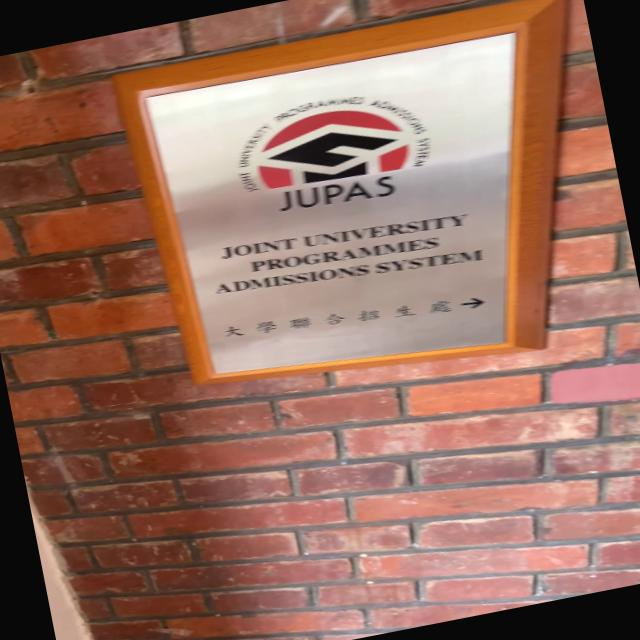jupasOffice: (76, 0, 640, 443)
